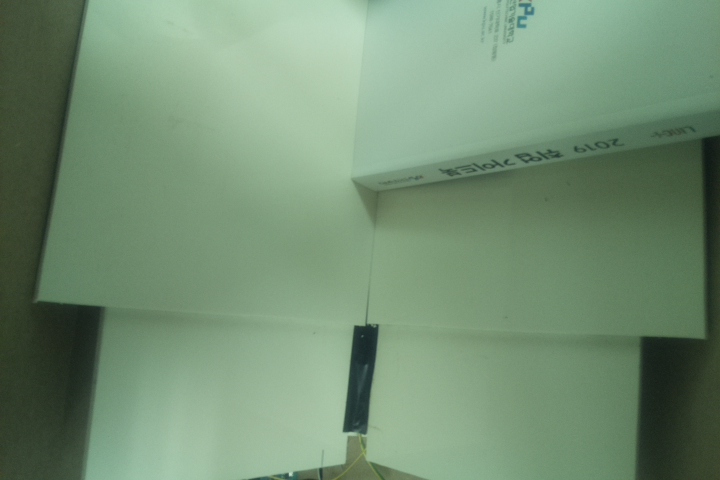book: (348, 1, 720, 201)
